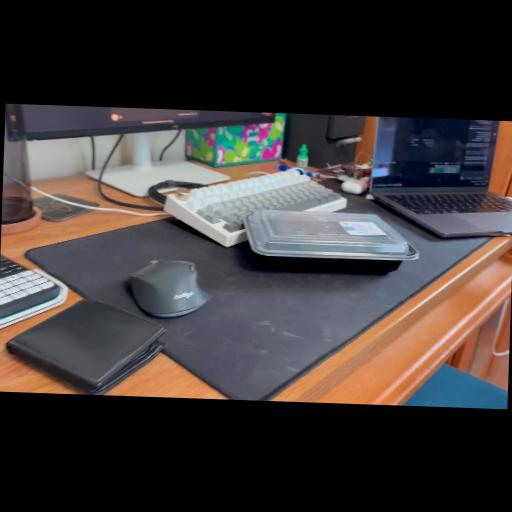rigid_plastic_container: (240, 208, 422, 276)
